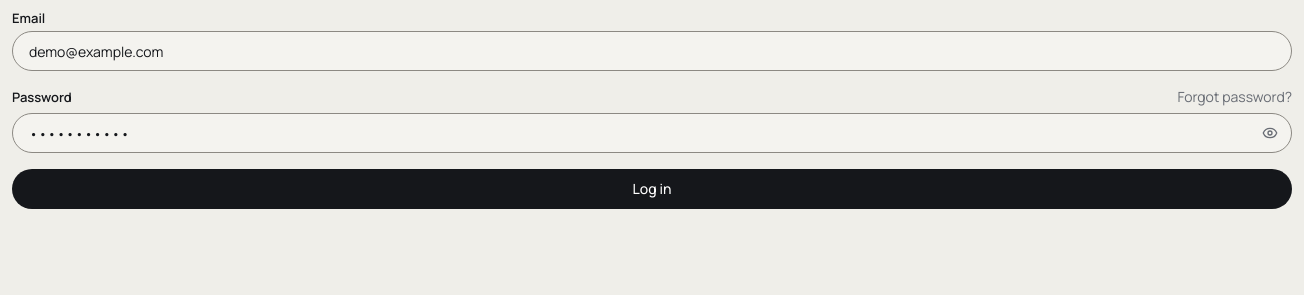
Test case: LoginForm › shows the API message and keeps the recovery link available
Click the button "Log in": (652, 189) [12,169,1292,209]
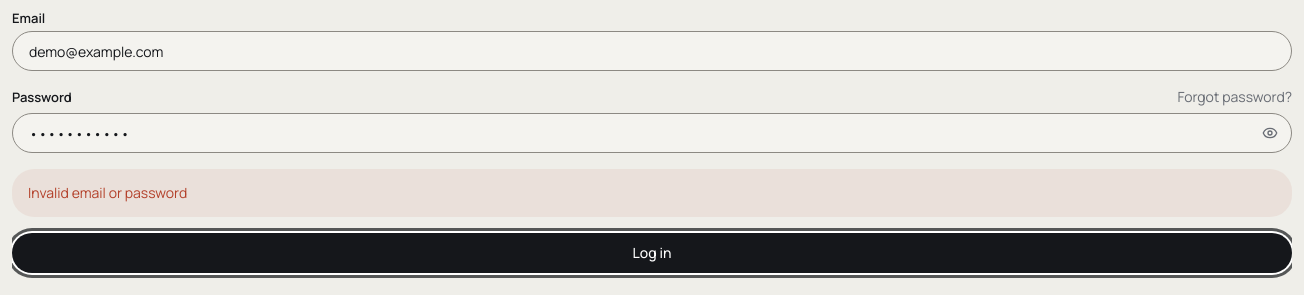
Now the message reads "Invalid email or password", box [28,183,187,202]
